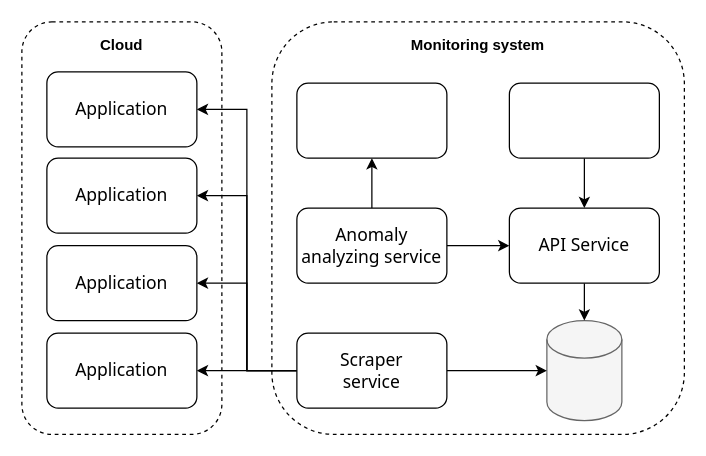
This 706x456 diagram has some shape labels left out. Here are the shapes that lost their labels. From the top down, the box of each, then its label:
(296, 82, 447, 158): Alerting service
(508, 82, 659, 158): Visualization service
(546, 319, 622, 421): TSDB
